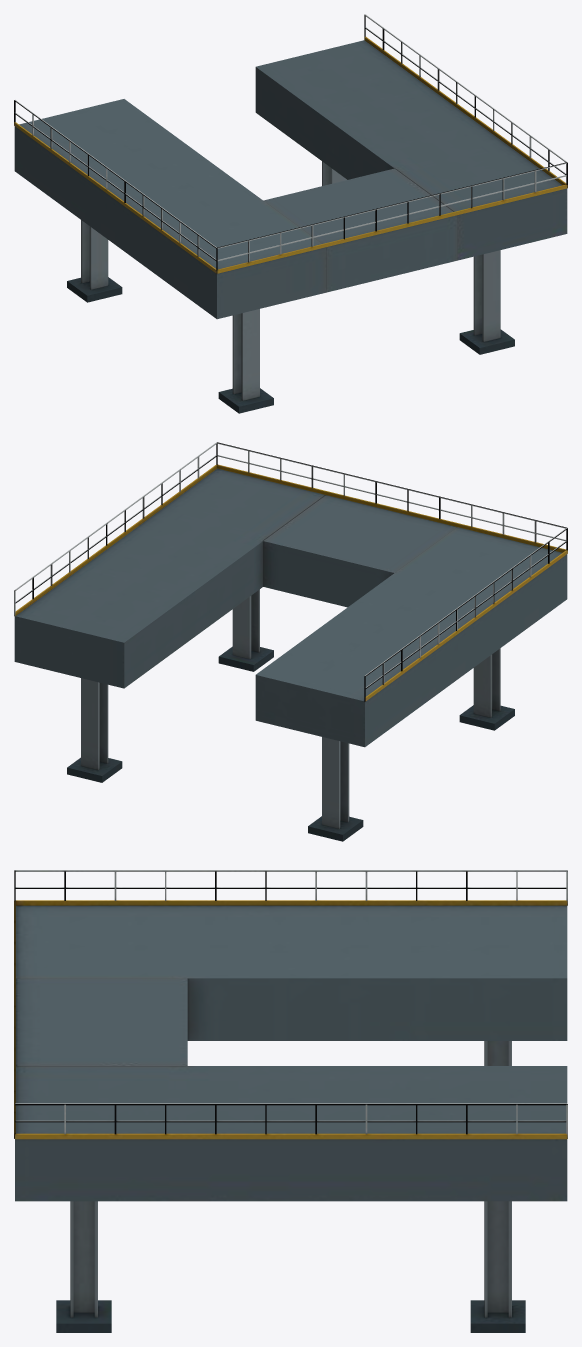
The model's file is launcher_slot_v4.glb.
The picture shows the model from 3 angles, top to bottom: view 1: azimuth 30°, elevation 25°; view 2: azimuth 150°, elevation 25°; view 3: azimuth 270°, elevation 25°; orthographic projection. The views are drawn at different scales.
Parts seen in each view (by area): view 1: body; view 2: body; view 3: body.
Boxes of the visible parts, box(x1,y1,x2,y2) form: body: box(14, 14, 567, 413); body: box(14, 442, 567, 841); body: box(14, 870, 567, 1332).
Bounding box in the file's own units: 16.06 × 8.12 × 16.05.
1 material, 1 textured.
